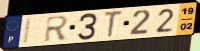2: (129, 9, 153, 37), (156, 8, 176, 34)
3: (75, 12, 99, 41)
I: (22, 17, 34, 45)
R: (43, 14, 70, 43)
T: (103, 9, 124, 39)
